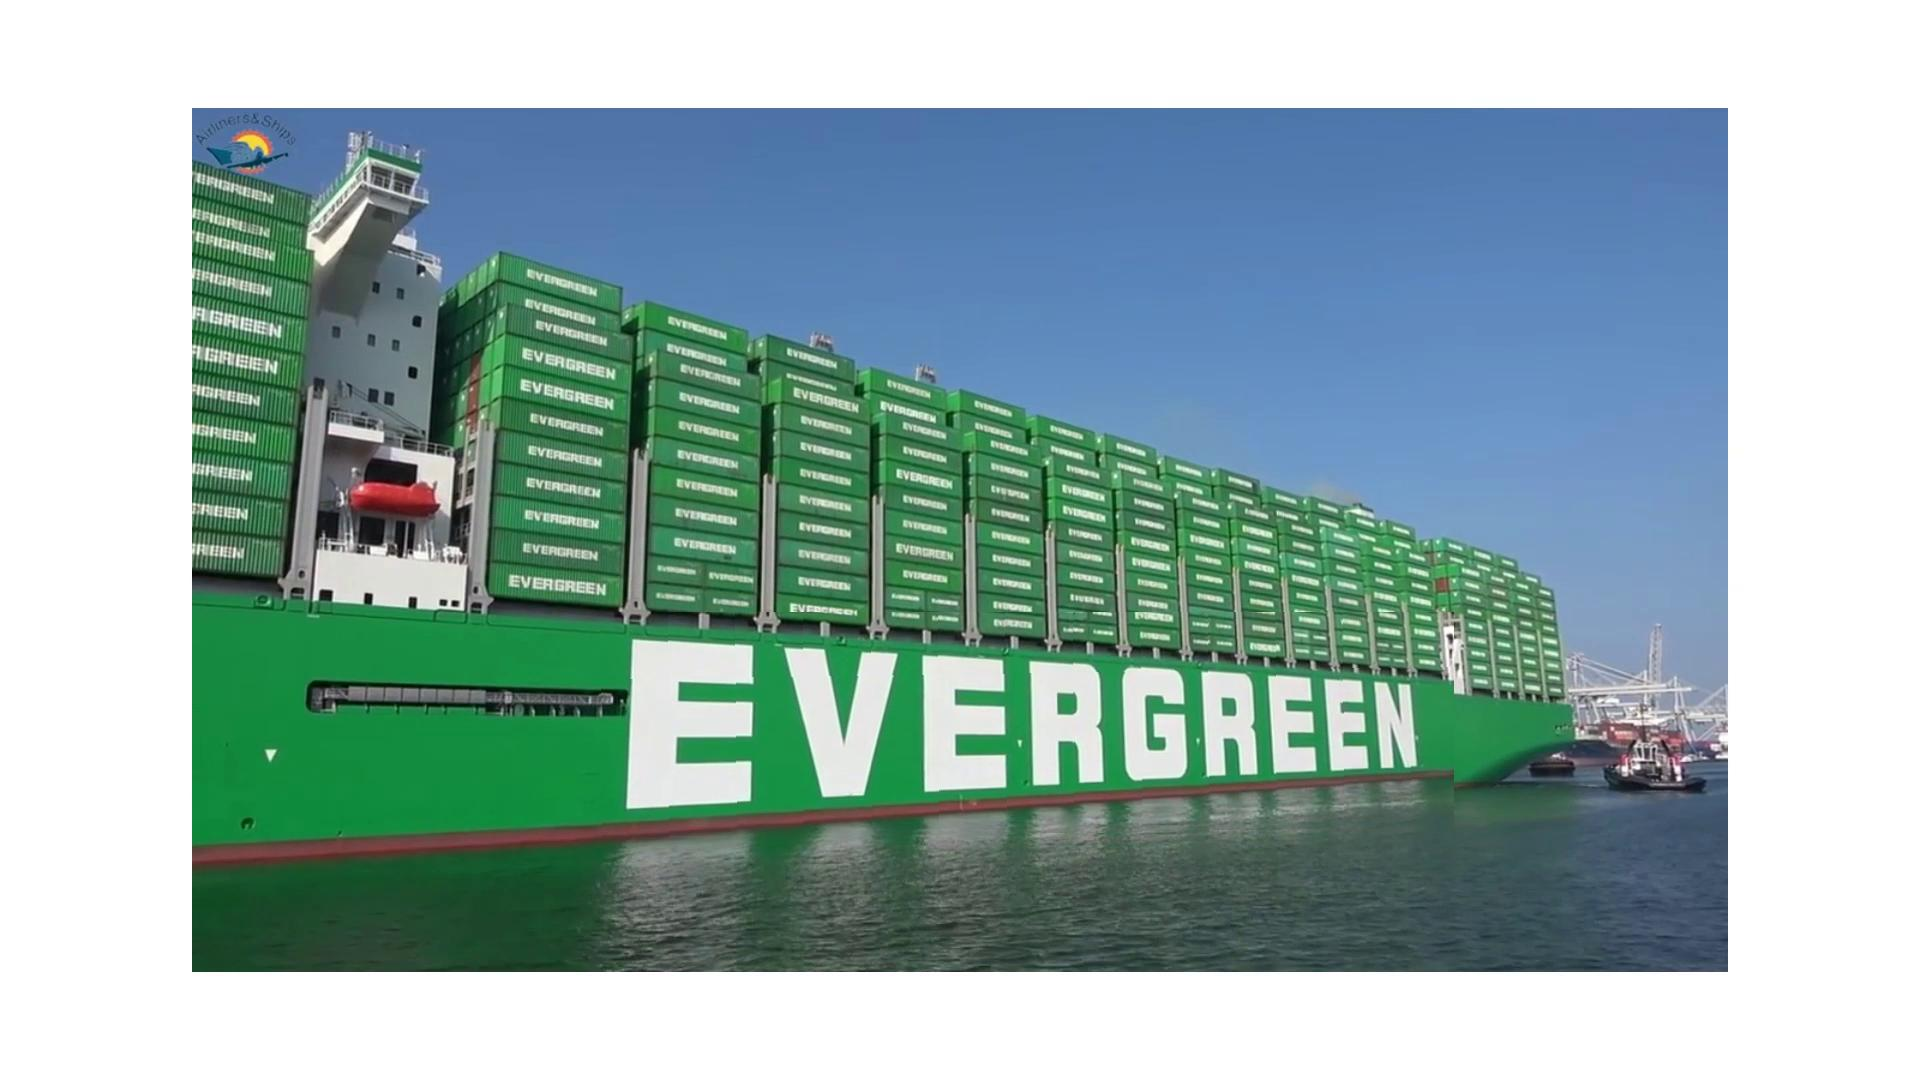OCR: (566, 612, 1453, 840)
